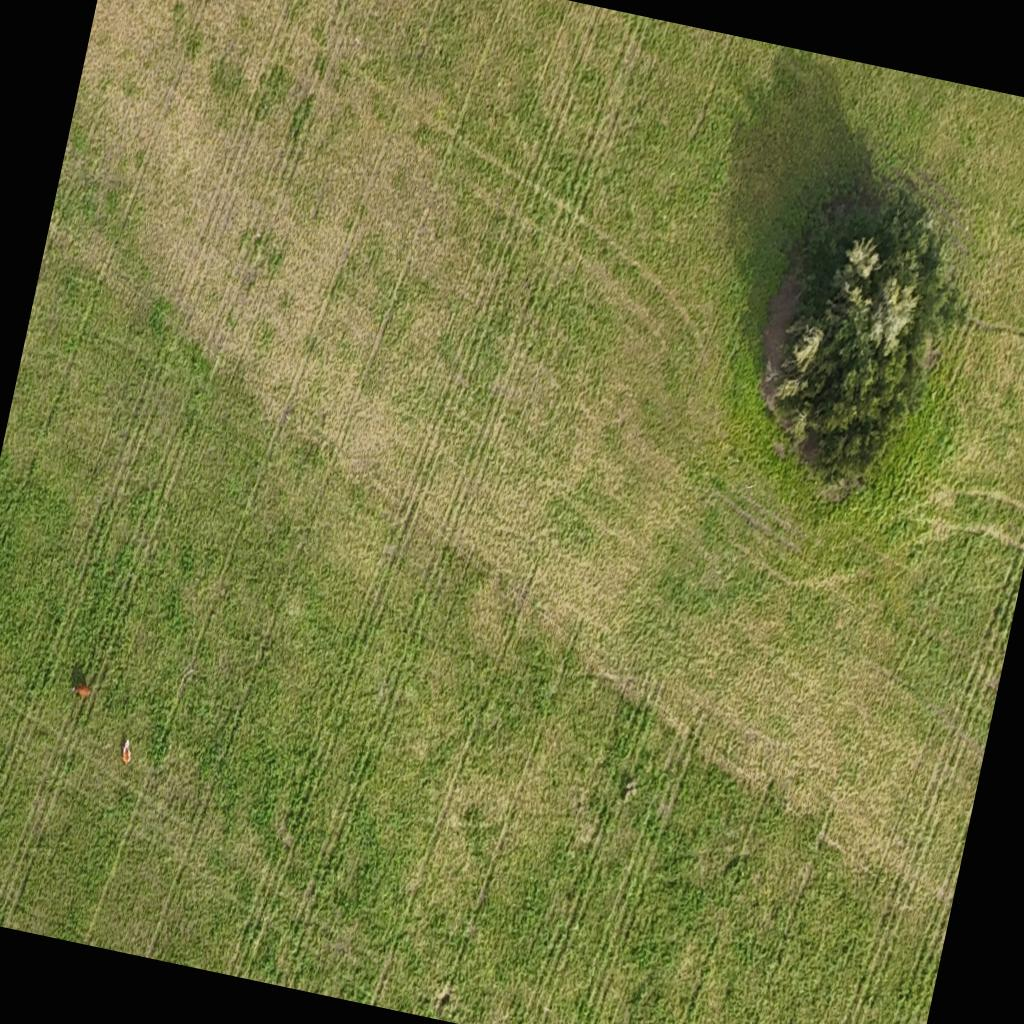cow: (119, 736, 136, 766), (70, 682, 93, 700)
